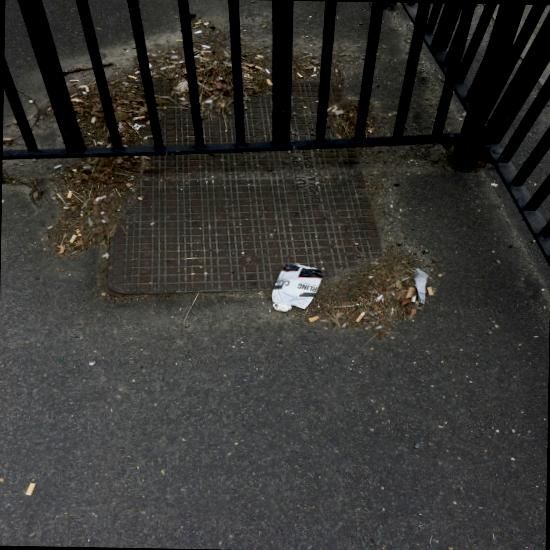Broken glass: (257, 331, 294, 352), (241, 354, 257, 360)
Plastic film: (149, 264, 229, 293), (288, 259, 304, 276)
Unlabeled litter: (18, 292, 42, 312)
